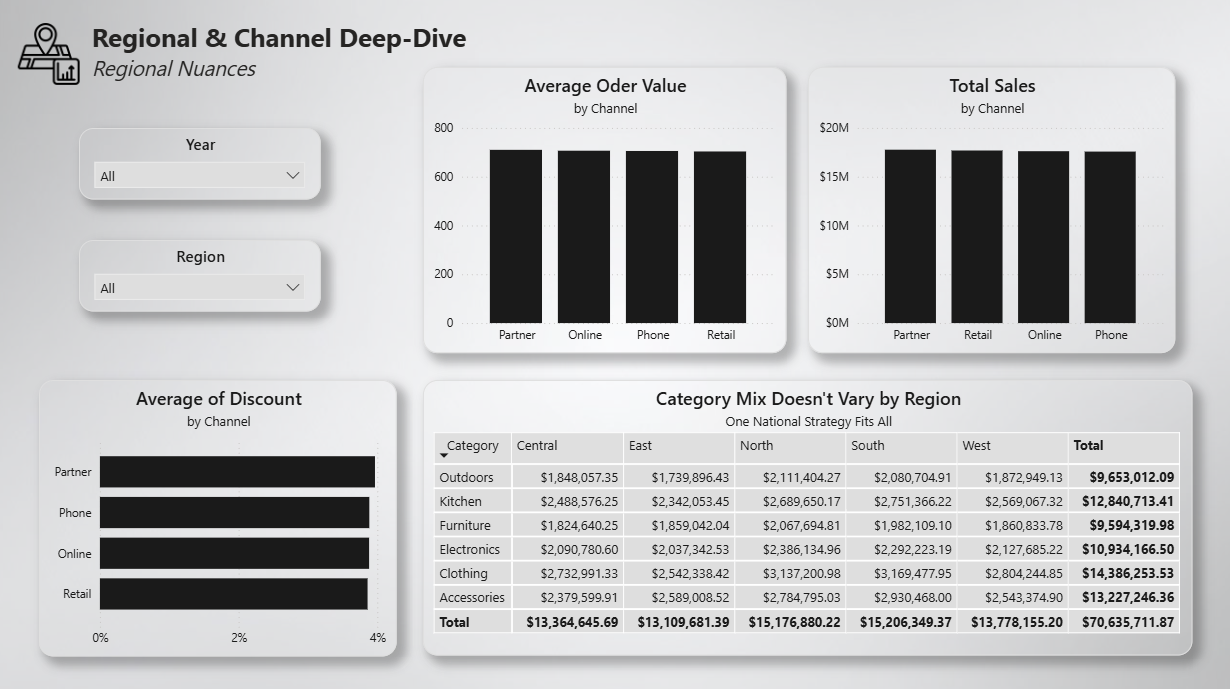

This screenshot's page, from the dashboard's own definition file:
{"tool":"powerbi","page":{"name":"Regional & Channel Deep-Dive","canvas":[1280,720],"ordinal":1},"visuals":[{"type":"pivotTable","title":"Category Mix Doesn''t Vary by Region","fields":{"Rows":["dimproduct.Category"],"Columns":["dimgeography.Region"],"Values":[" Measures.Total Sales"]},"box":[441.5,392.6,796.1,285.3],"z":0},{"type":"columnChart","fields":{"Category":["factsales.Channel"],"Y":[" Measures.Average Oder Value"]},"box":[441.8,68.8,375.7,295.9],"z":1000},{"type":"columnChart","fields":{"Category":["factsales.Channel"],"Y":[" Measures.Total Sales"]},"box":[839.6,68.8,379.9,295.9],"z":2000},{"type":"barChart","title":"Average of Discount","fields":{"Category":["factsales.Channel"],"Y":["Avg(factsales.Discount)"]},"box":[44.3,392.9,370,285.7],"z":3000},{"type":"slicer","title":"Region","fields":{"Values":["dimgeography.Region"]},"box":[85.6,247.8,250,74.4],"z":4000},{"type":"slicer","title":"Year","fields":{"Values":["dimdate.Year"]},"box":[85.6,132.2,250,74.4],"z":5000},{"type":"textbox","box":[94.3,14.3,412.9,84.3],"z":6000},{"type":"image","box":[15.7,24.3,78.6,64.3],"z":7000}]}

Visuals, with their boxes in screenshot pixels (x1, y1, x2, y2), scaled from the page's 1280x720 canvas onto the 1230x689 screenshot:
"Category Mix Doesn''t Vary by Region" pivotTable: <bbox>424, 376, 1189, 649</bbox>
columnChart - factsales.Channel x  Measures.Average Oder Value: <bbox>425, 66, 786, 349</bbox>
columnChart - factsales.Channel x  Measures.Total Sales: <bbox>807, 66, 1172, 349</bbox>
"Average of Discount" barChart: <bbox>43, 376, 398, 649</bbox>
"Region" slicer: <bbox>82, 237, 322, 308</bbox>
"Year" slicer: <bbox>82, 127, 322, 198</bbox>
textbox: <bbox>91, 14, 487, 94</bbox>
image: <bbox>15, 23, 91, 85</bbox>
